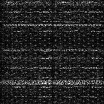lte: (1, 80, 104, 85), (1, 23, 104, 26), (1, 48, 104, 51), (1, 66, 104, 69)
